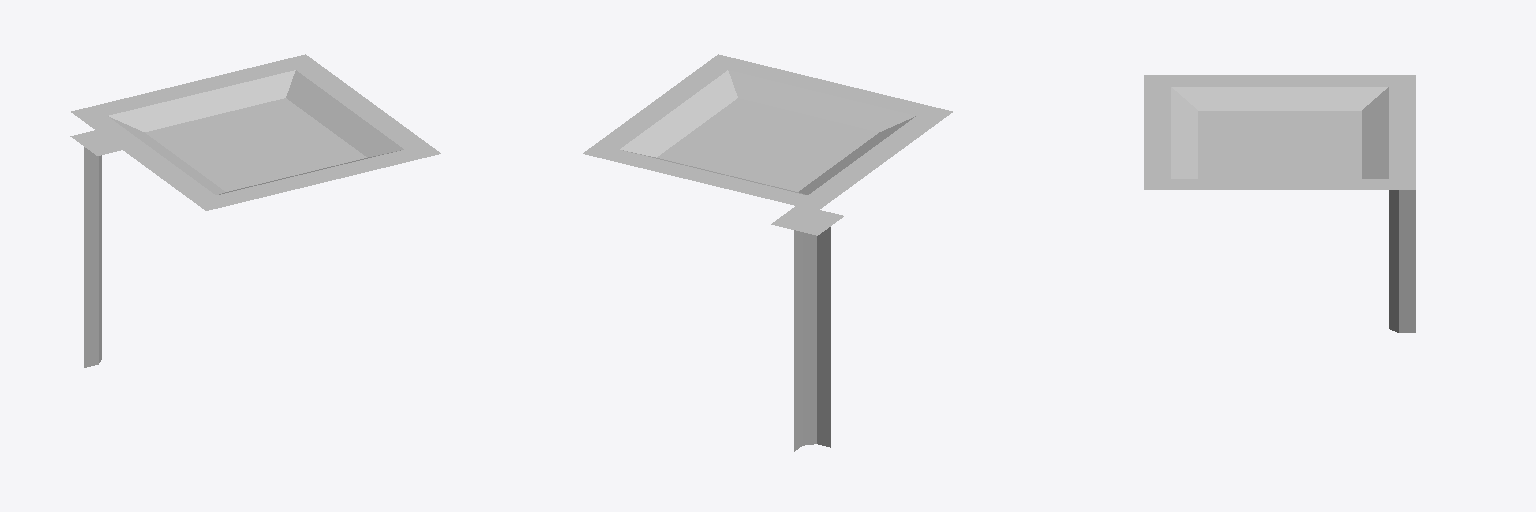
File: Inner_Corner_Wall_Roof_Outer_Corner.obj
3 renders of one model, left to right at view 1: azimuth 30°, elevation 25°; view 2: azimuth 150°, elevation 25°; view 3: azimuth 270°, elevation 25°, orthographic.
Parts seen in each view (by area): view 1: Inner_Corner_Wall_Roof_Outer_Corner; view 2: Inner_Corner_Wall_Roof_Outer_Corner; view 3: Inner_Corner_Wall_Roof_Outer_Corner.
Part boxes in pixels (left/top/right/bottom): Inner_Corner_Wall_Roof_Outer_Corner: left=70, top=54, right=440, bottom=367; Inner_Corner_Wall_Roof_Outer_Corner: left=583, top=54, right=952, bottom=451; Inner_Corner_Wall_Roof_Outer_Corner: left=1144, top=75, right=1415, bottom=332.
Size of the model in its own units: 1 by 1 by 1.